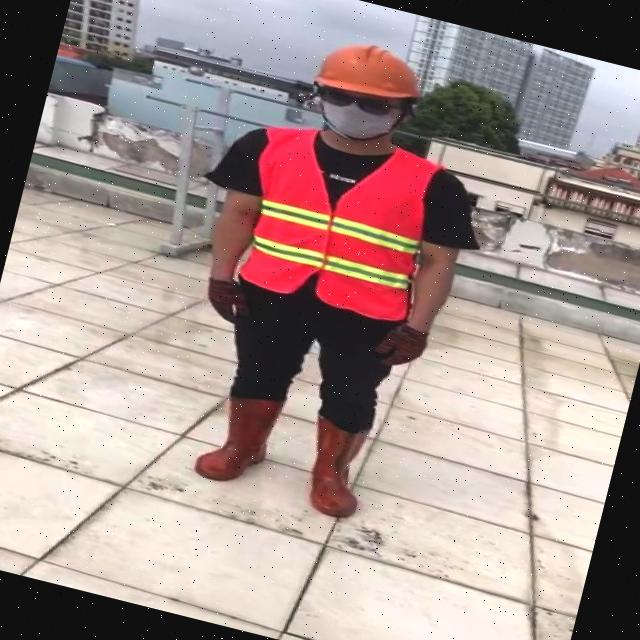boots: (192, 386, 281, 489), (295, 413, 379, 522)
helmet: (310, 31, 433, 112)
vest: (232, 118, 444, 324)
